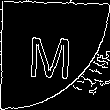M_N: (32, 29, 78, 81)
